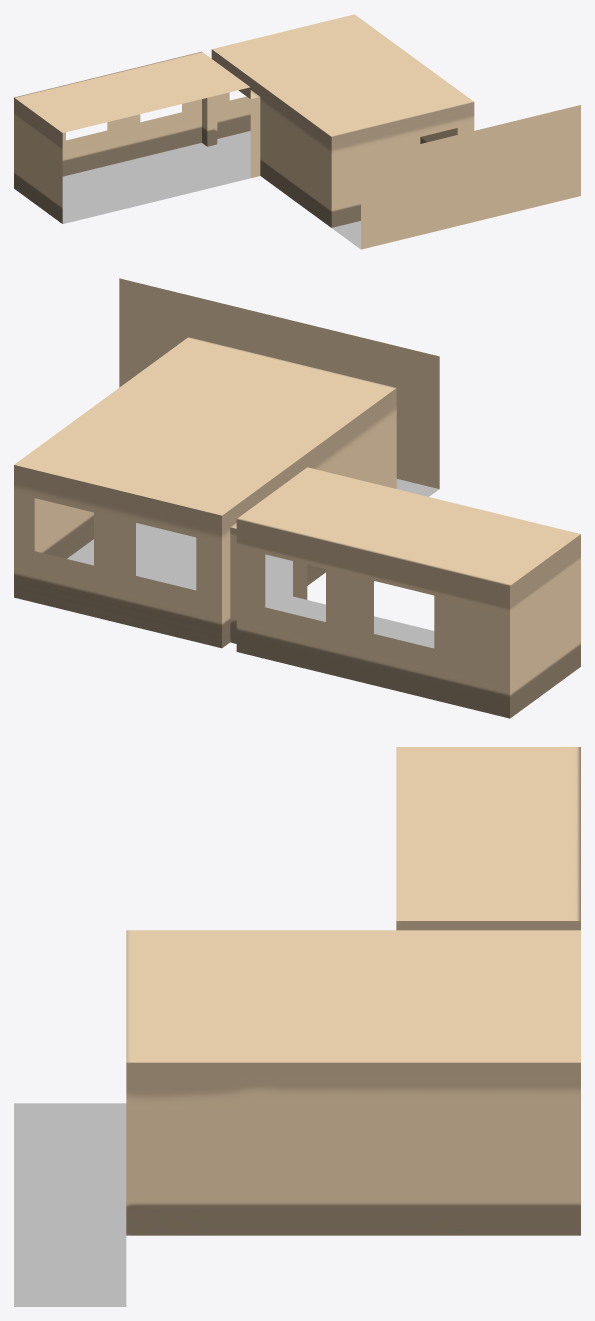
File: room.obj
3 views of the same model, one above another, from view 1: azimuth 30°, elevation 25°; view 2: azimuth 150°, elevation 25°; view 3: azimuth 270°, elevation 25° (orthographic). The views are drawn at different scales.
Visible parts, largest first — view 1: room_Plane; view 2: room_Plane; view 3: room_Plane.
Boxes of the visible parts, x1,y1,x2,y2 form: room_Plane: (14, 14, 580, 249); room_Plane: (14, 278, 580, 718); room_Plane: (14, 747, 580, 1306).
Bounding box in the file's own units: 32.79 × 6.84 × 20.3.
